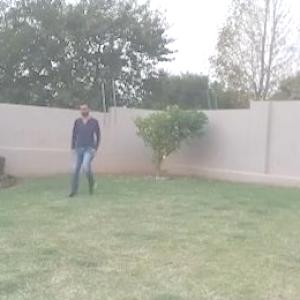follow: (67, 97, 101, 204)
